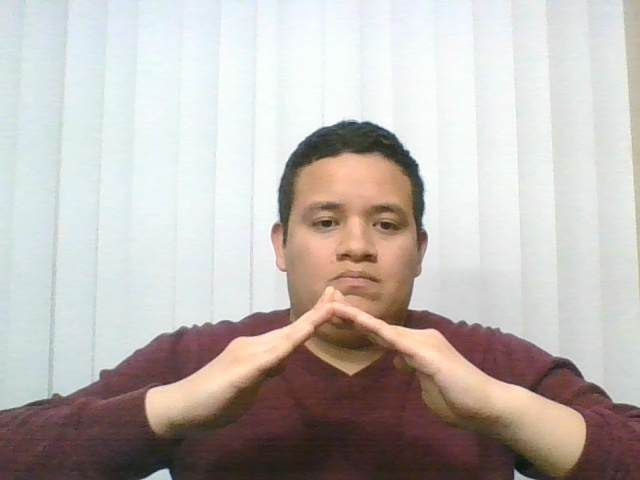House: (87, 270, 586, 471)
